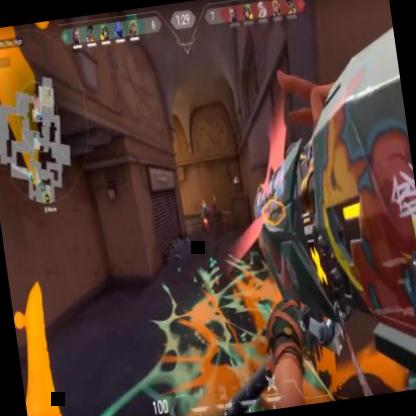enemy: (200, 197, 210, 230), (209, 188, 217, 216)
enemy_head: (202, 200, 205, 205), (212, 192, 214, 196)
